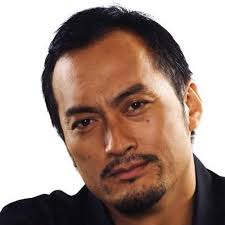asian_male: (38, 14, 200, 208)
